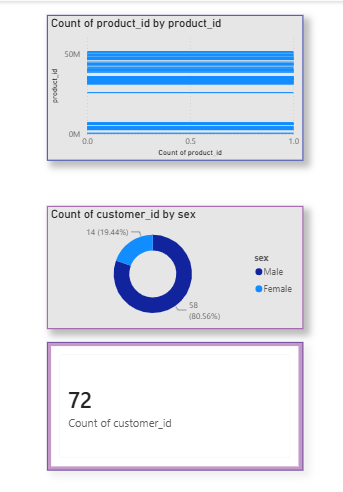

What the dashboard file says about the page in this screenshot:
{"tool":"powerbi","page":{"name":"Page 1","canvas":[1280,720],"ordinal":0},"visuals":[{"type":"barChart","fields":{"Y":["CountNonNull(final_ecommerce_clean.product_id)"],"Category":["final_ecommerce_clean.product_id"]},"box":[470.3,20.2,374.6,213.3],"z":0},{"type":"donutChart","fields":{"Category":["final_ecommerce_clean.sex"],"Y":["CountNonNull(final_ecommerce_clean.customer_id)"]},"box":[470.3,300.7,374.6,179.7],"z":1},{"type":"cardVisual","fields":{"Data":["CountNonNull(final_ecommerce_clean.customer_id)"]},"box":[470.3,498.9,374.6,188.1],"z":2}]}

Visuals, with their boxes on the page's 1280x720 design canvas (x1, y1, x2, y2). These are canvas units, not pixel positions in the 343x492 screenshot, which may show the page scaled, cropped or inside an application window:
barChart - CountNonNull(final_ecommerce_clean.product_id) x final_ecommerce_clean.product_id: Rect(470, 20, 845, 234)
donutChart - final_ecommerce_clean.sex x CountNonNull(final_ecommerce_clean.customer_id): Rect(470, 301, 845, 480)
cardVisual - CountNonNull(final_ecommerce_clean.customer_id): Rect(470, 499, 845, 687)
